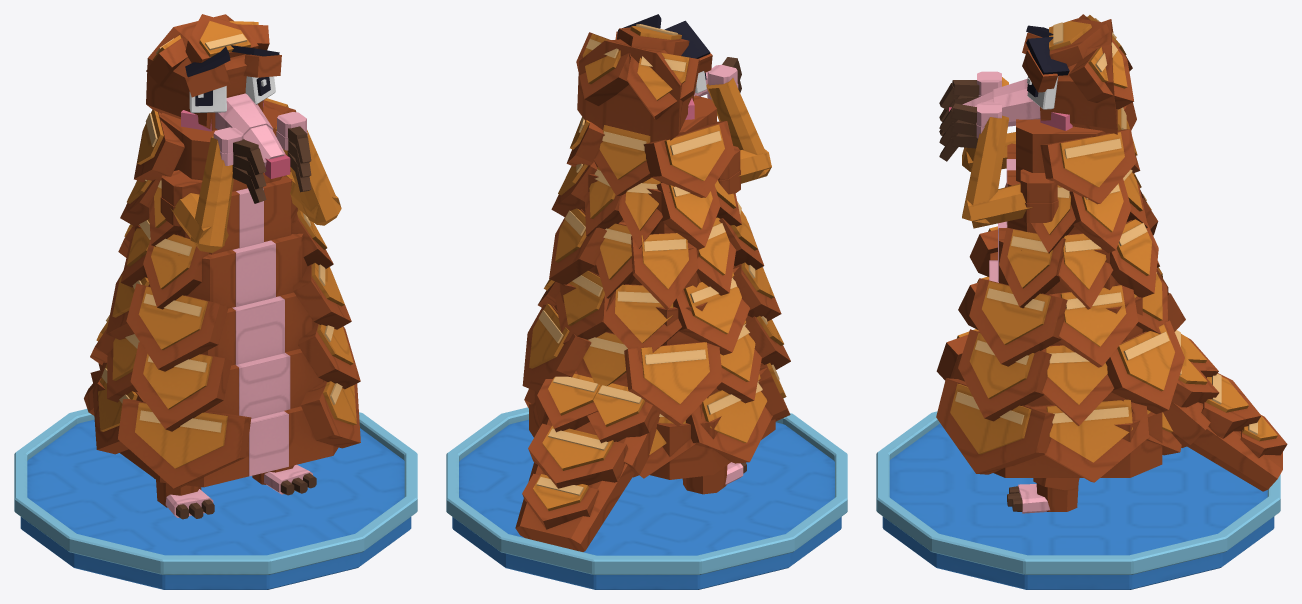
Rendered from ConePangolin.fbx.
The picture shows the model from 3 angles, left to right: view 1: azimuth 30°, elevation 25°; view 2: azimuth 150°, elevation 25°; view 3: azimuth 270°, elevation 25°; orthographic projection.
Parts seen in each view (by area): view 1: Art_ConePangolin_Body, Art_ConePangolin_Stand, Art_ConePangolin_Head, Art_ConePangolin_ArmR, Art_ConePangolin_ArmL, Art_ConePangolin_LegR, Art_ConePangolin_LegL; view 2: Art_ConePangolin_Body, Art_ConePangolin_Stand, Art_ConePangolin_Tail, Art_ConePangolin_Head, Art_ConePangolin_ArmR, Art_ConePangolin_LegR; view 3: Art_ConePangolin_Body, Art_ConePangolin_Stand, Art_ConePangolin_Head, Art_ConePangolin_Tail, Art_ConePangolin_ArmL, Art_ConePangolin_LegL, Art_ConePangolin_ArmR.
Boxes of the visible parts, <box> form: Art_ConePangolin_Body: <box>90,98,360,488</box>; Art_ConePangolin_Stand: <box>14,409,417,589</box>; Art_ConePangolin_Head: <box>146,14,290,178</box>; Art_ConePangolin_ArmR: <box>160,127,266,252</box>; Art_ConePangolin_ArmL: <box>275,112,341,225</box>; Art_ConePangolin_LegR: <box>154,478,214,519</box>; Art_ConePangolin_LegL: <box>252,464,316,495</box>; Art_ConePangolin_Body: <box>522,95,790,479</box>; Art_ConePangolin_Stand: <box>446,407,847,589</box>; Art_ConePangolin_Tail: <box>515,371,659,551</box>; Art_ConePangolin_Head: <box>576,14,712,142</box>; Art_ConePangolin_ArmR: <box>706,57,771,194</box>; Art_ConePangolin_LegR: <box>682,462,746,494</box>; Art_ConePangolin_Body: <box>936,102,1185,482</box>; Art_ConePangolin_Stand: <box>876,411,1280,589</box>; Art_ConePangolin_Head: <box>949,14,1133,134</box>; Art_ConePangolin_Tail: <box>1163,330,1287,491</box>; Art_ConePangolin_ArmL: <box>939,102,1058,228</box>; Art_ConePangolin_LegL: <box>1007,478,1079,513</box>; Art_ConePangolin_ArmR: <box>939,71,1015,171</box>.
Bounding box in the file's own units: 3.09 × 4.09 × 3.14.
